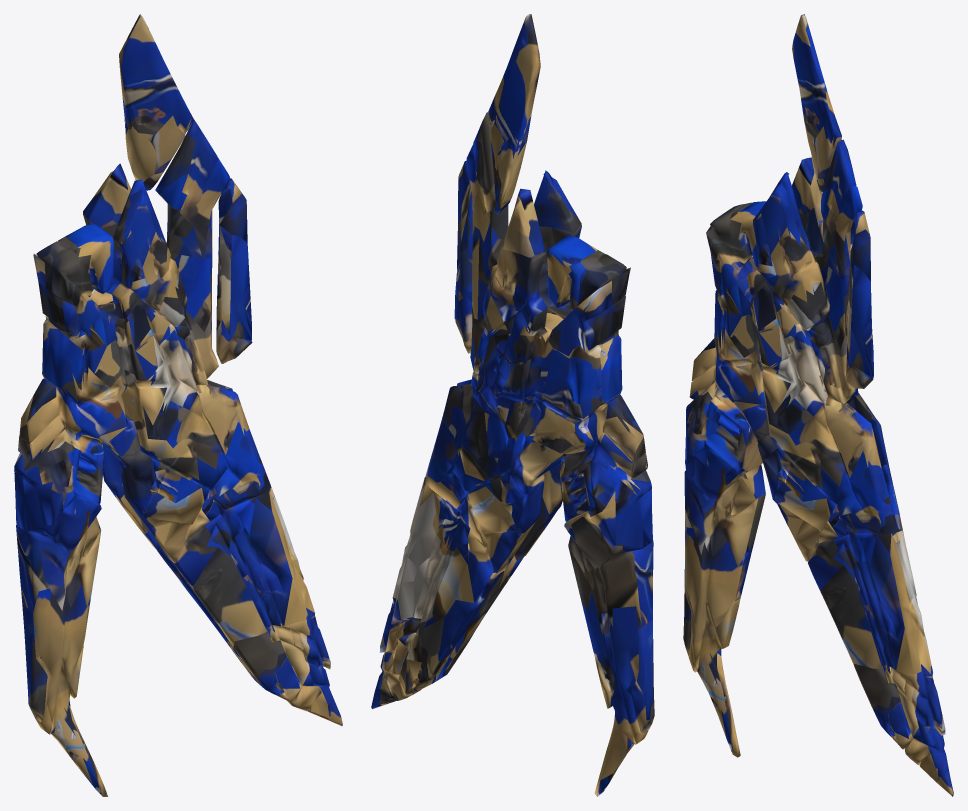
The model's file is MobilityMiddleR.gltf.
3 views of the same model, side by side, from view 1: azimuth 30°, elevation 25°; view 2: azimuth 150°, elevation 25°; view 3: azimuth 330°, elevation 25° (orthographic). The views are drawn at different scales.
Visible parts, largest first — view 1: MobilityMiddleR; view 2: MobilityMiddleR; view 3: MobilityMiddleR.
Boxes of the visible parts, x1,y1,x2,y2 form: MobilityMiddleR: (14,14,342,796); MobilityMiddleR: (371,14,654,796); MobilityMiddleR: (683,14,953,796).
Bounding box in the file's own units: 0.4 × 0.9794 × 0.1298.
Materials: 1 (1 with a texture image).
